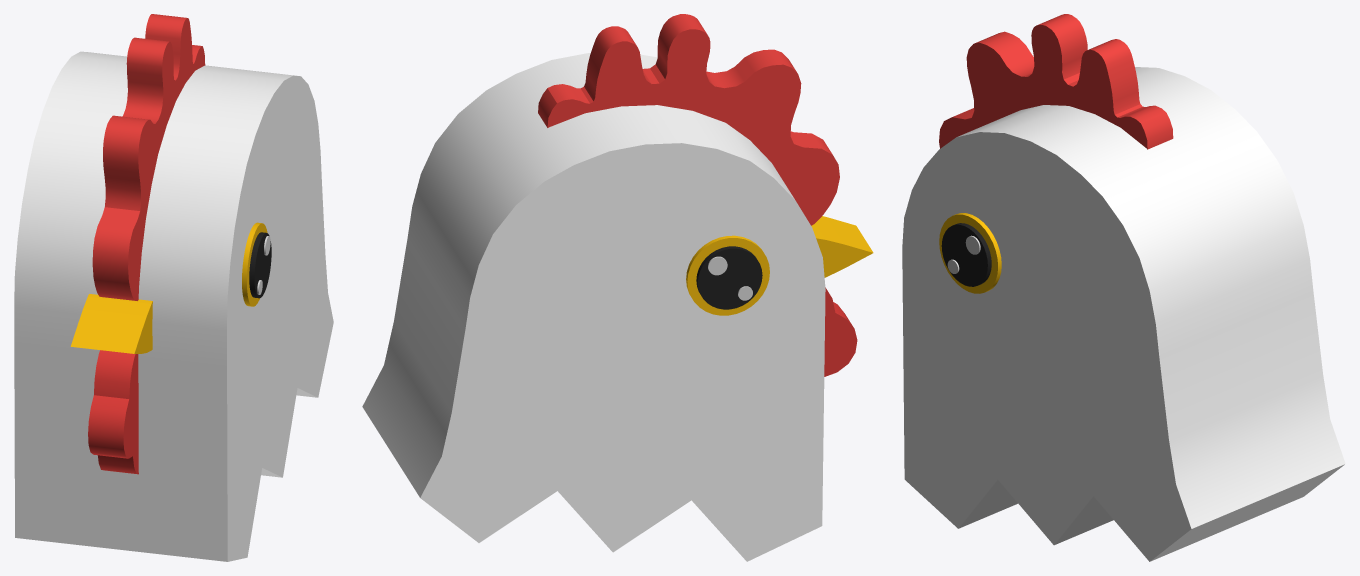
File: chicken.gltf
3 views of the same model, side by side, from view 1: azimuth 30°, elevation 25°; view 2: azimuth 150°, elevation 25°; view 3: azimuth 270°, elevation 25° (orthographic). The views are drawn at different scales.
Visible parts, largest first — view 1: Cube.6274; view 2: Cube.6274; view 3: Cube.6274.
Part boxes in pixels (x1,y1,x2,y2): Cube.6274: (14, 14, 333, 561); Cube.6274: (362, 14, 873, 561); Cube.6274: (902, 14, 1345, 561).
Bounding box in the file's own units: 1.65 × 2 × 1.65.
Materials: 1 (1 with a texture image).
